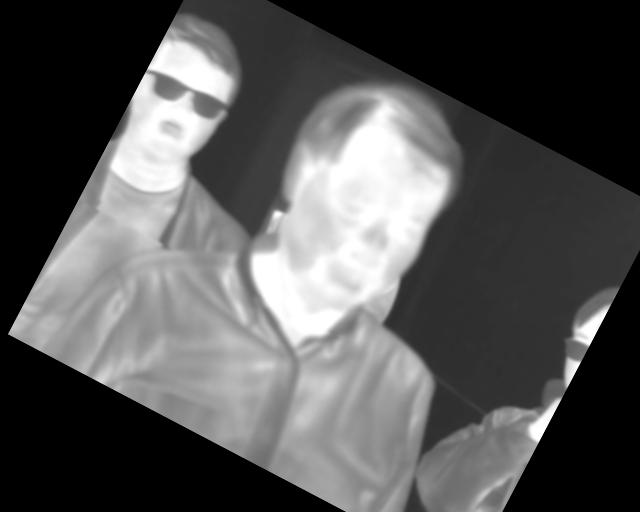face: (228, 50, 492, 344), (111, 3, 267, 182)
